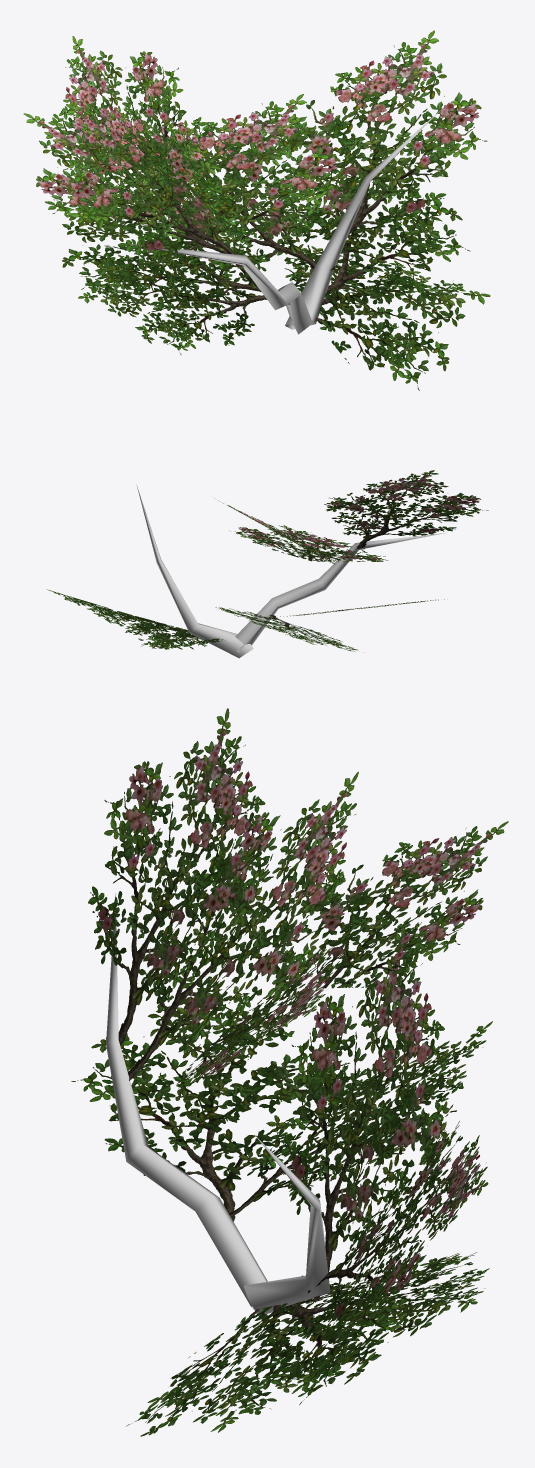
File: zc_erhai_huashu02.FBX
3 renders of one model, top to bottom at view 1: azimuth 30°, elevation 25°; view 2: azimuth 150°, elevation 25°; view 3: azimuth 270°, elevation 25°, orthographic. The views are drawn at different scales.
Visible parts, largest first — view 1: zc_erhai_huashu02; view 2: zc_erhai_huashu02; view 3: zc_erhai_huashu02.
Part boxes in pixels (left/top/right/bottom): zc_erhai_huashu02: left=23, top=30, right=490, bottom=390; zc_erhai_huashu02: left=47, top=470, right=488, bottom=658; zc_erhai_huashu02: left=71, top=708, right=508, bottom=1436.
Size of the model in its own units: 380 by 249 by 210.
